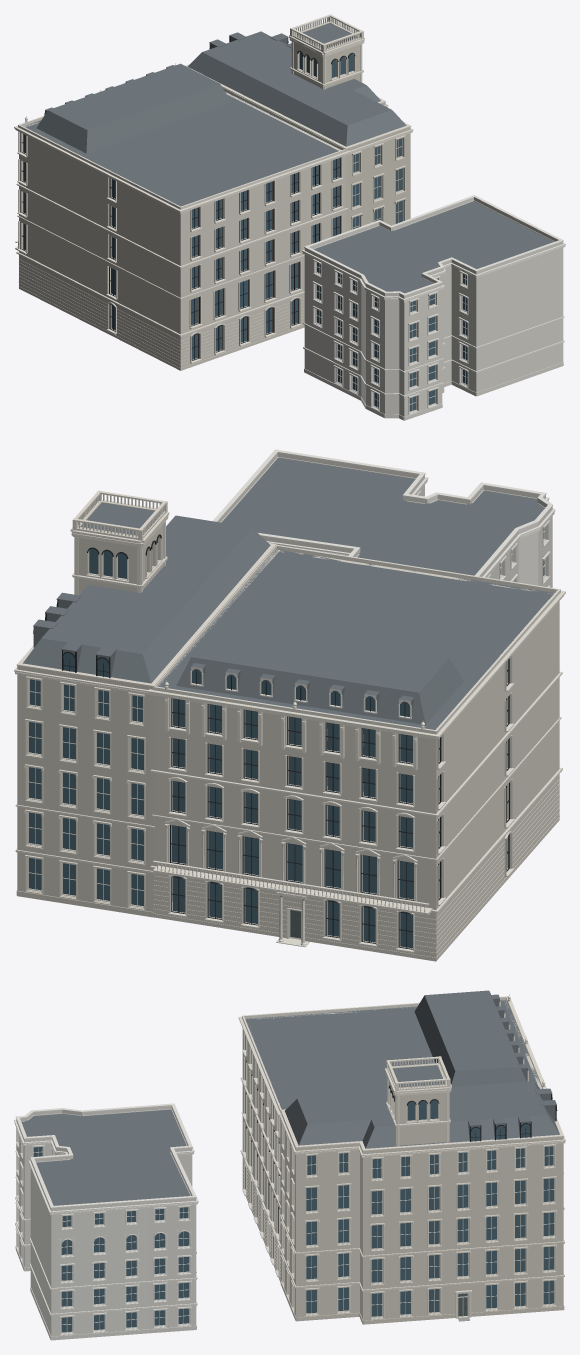
The model's file is replacement.glb.
The picture shows the model from 3 angles, top to bottom: view 1: azimuth 30°, elevation 25°; view 2: azimuth 150°, elevation 25°; view 3: azimuth 270°, elevation 25°; orthographic projection. The views are drawn at different scales.
Visible parts, largest first — view 1: Cheval Hyde Park Gate | full depth wall piers, 1–2 Queens Gate | pierced stucco elevations, Cheval Hyde Park Gate | full concave footprint roof, 1–2 Queens Gate | complete concave roof deck, Cheval Hyde Park Gate | estimated recessed attic mansard, 1 Hyde Park Gate | complete inset mansard top, Cheval Hyde Park Gate | recessed glazing, 1 Hyde Park Gate | observed mansard sloping skin, Cheval Hyde Park Gate | continuous mitred cornices, Cheval Hyde Park Gate | aperture stone surround, 1 Hyde Park Gate | pierced stucco elevations, 1–2 Queens Gate | plain eaves and floor course (+23 smaller); view 2: Cheval Hyde Park Gate | full depth wall piers, Cheval Hyde Park Gate | full concave footprint roof, 1–2 Queens Gate | complete concave roof deck, 1 Hyde Park Gate | pierced stucco elevations, Cheval Hyde Park Gate | recessed glazing, 1 Hyde Park Gate | complete inset mansard top, Cheval Hyde Park Gate | estimated recessed attic mansard, 1 Hyde Park Gate | recessed townhouse sash glazing, Cheval Hyde Park Gate | aperture stone surround, 1 Hyde Park Gate | observed mansard sloping skin, Cheval Hyde Park Gate | continuous mitred cornices, Cheval Hyde Park Gate | mansard front pierced roof (+34 smaller); view 3: 1 Hyde Park Gate | pierced stucco elevations, 1–2 Queens Gate | pierced stucco elevations, Cheval Hyde Park Gate | full concave footprint roof, 1–2 Queens Gate | complete concave roof deck, 1 Hyde Park Gate | recessed townhouse sash glazing, Cheval Hyde Park Gate | estimated recessed attic mansard, 1 Hyde Park Gate | complete inset mansard top, 1 Hyde Park Gate | window architrave sides, 1 Hyde Park Gate | observed mansard sloping skin, 1–2 Queens Gate | recessed townhouse sash glazing, Cheval Hyde Park Gate | full depth wall piers, Cheval Hyde Park Gate | aperture stone surround (+28 smaller).
Part boxes in pixels (bbox=[...]): Cheval Hyde Park Gate | full depth wall piers: bbox=[19, 92, 345, 370]; 1–2 Queens Gate | pierced stucco elevations: bbox=[304, 200, 563, 416]; Cheval Hyde Park Gate | full concave footprint roof: bbox=[23, 91, 338, 206]; 1–2 Queens Gate | complete concave roof deck: bbox=[314, 201, 553, 293]; Cheval Hyde Park Gate | estimated recessed attic mansard: bbox=[36, 63, 231, 153]; 1 Hyde Park Gate | complete inset mansard top: bbox=[202, 31, 391, 125]; Cheval Hyde Park Gate | recessed glazing: bbox=[23, 134, 338, 359]; 1 Hyde Park Gate | observed mansard sloping skin: bbox=[187, 52, 406, 146]; Cheval Hyde Park Gate | continuous mitred cornices: bbox=[14, 93, 350, 336]; Cheval Hyde Park Gate | aperture stone surround: bbox=[18, 131, 342, 362]; 1 Hyde Park Gate | pierced stucco elevations: bbox=[346, 104, 410, 231]; 1–2 Queens Gate | plain eaves and floor course: bbox=[302, 243, 565, 397]; Cheval Hyde Park Gate | full depth wall piers: bbox=[153, 549, 559, 961]; Cheval Hyde Park Gate | full concave footprint roof: bbox=[158, 549, 554, 729]; 1–2 Queens Gate | complete concave roof deck: bbox=[222, 458, 544, 575]; 1 Hyde Park Gate | pierced stucco elevations: bbox=[17, 669, 153, 911]; Cheval Hyde Park Gate | recessed glazing: bbox=[171, 698, 505, 948]; 1 Hyde Park Gate | complete inset mansard top: bbox=[42, 515, 251, 653]; Cheval Hyde Park Gate | estimated recessed attic mansard: bbox=[191, 622, 463, 724]; 1 Hyde Park Gate | recessed townhouse sash glazing: bbox=[29, 679, 143, 906]; Cheval Hyde Park Gate | aperture stone surround: bbox=[167, 655, 512, 950]; 1 Hyde Park Gate | observed mansard sloping skin: bbox=[23, 528, 270, 683]; Cheval Hyde Park Gate | continuous mitred cornices: bbox=[147, 549, 565, 913]; Cheval Hyde Park Gate | mansard front pierced roof: bbox=[187, 657, 418, 723]; 1 Hyde Park Gate | pierced stucco elevations: bbox=[281, 1117, 563, 1320]; 1–2 Queens Gate | pierced stucco elevations: bbox=[16, 1109, 196, 1336]; Cheval Hyde Park Gate | full concave footprint roof: bbox=[245, 1000, 538, 1109]; 1–2 Queens Gate | complete concave roof deck: bbox=[21, 1109, 190, 1205]; 1 Hyde Park Gate | recessed townhouse sash glazing: bbox=[306, 1146, 554, 1316]; Cheval Hyde Park Gate | estimated recessed attic mansard: bbox=[414, 990, 526, 1086]; 1 Hyde Park Gate | complete inset mansard top: bbox=[297, 1081, 547, 1127]; 1 Hyde Park Gate | window architrave sides: bbox=[282, 1125, 556, 1318]; 1 Hyde Park Gate | observed mansard sloping skin: bbox=[285, 1081, 559, 1148]; 1–2 Queens Gate | recessed townhouse sash glazing: bbox=[33, 1146, 189, 1332]; Cheval Hyde Park Gate | full depth wall piers: bbox=[242, 1000, 542, 1281]; Cheval Hyde Park Gate | aperture stone surround: bbox=[243, 1031, 280, 1276].
Bounding box in the file's own units: 46.79 × 30.07 × 63.08.
